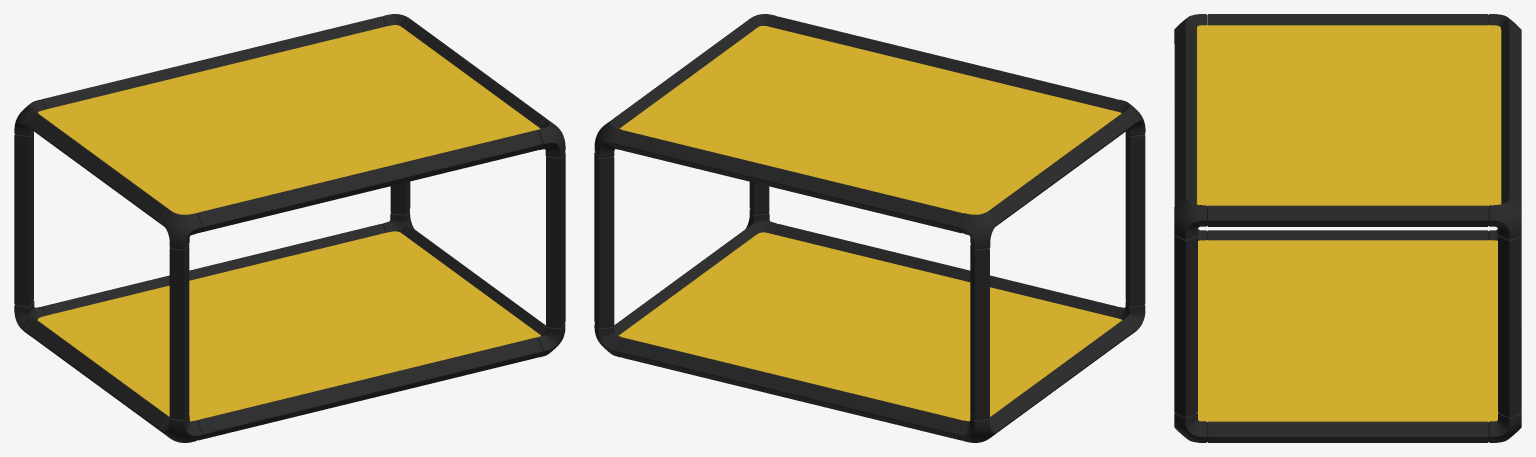
3 views of the same model, side by side, from view 1: azimuth 30°, elevation 25°; view 2: azimuth 150°, elevation 25°; view 3: azimuth 270°, elevation 25° (orthographic). The views are drawn at different scales.
Parts seen in each view (by area): view 1: 479x329x229; view 2: 479x329x229; view 3: 479x329x229.
Part boxes in pixels (x1,y1,x2,y2): 479x329x229: (14,14,565,442); 479x329x229: (594,14,1145,442); 479x329x229: (1174,14,1521,442).
Size of the model in its own units: 0.5567 by 0.3066 by 0.4063.
